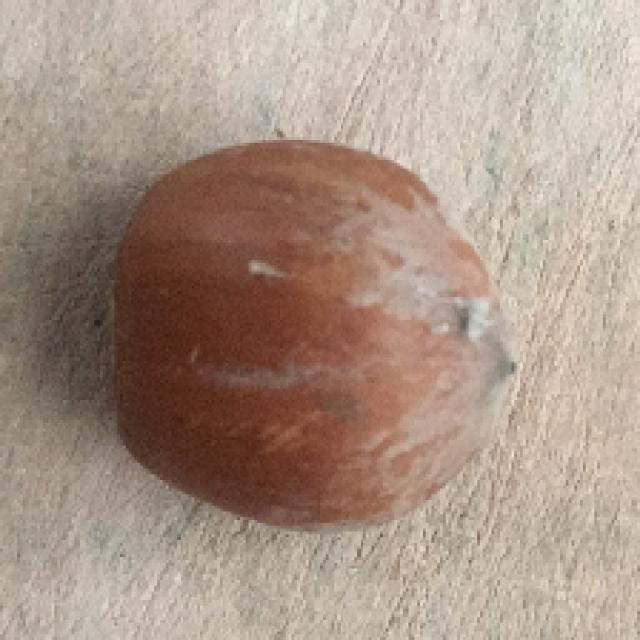qualityHazelnut: (102, 133, 522, 532)
